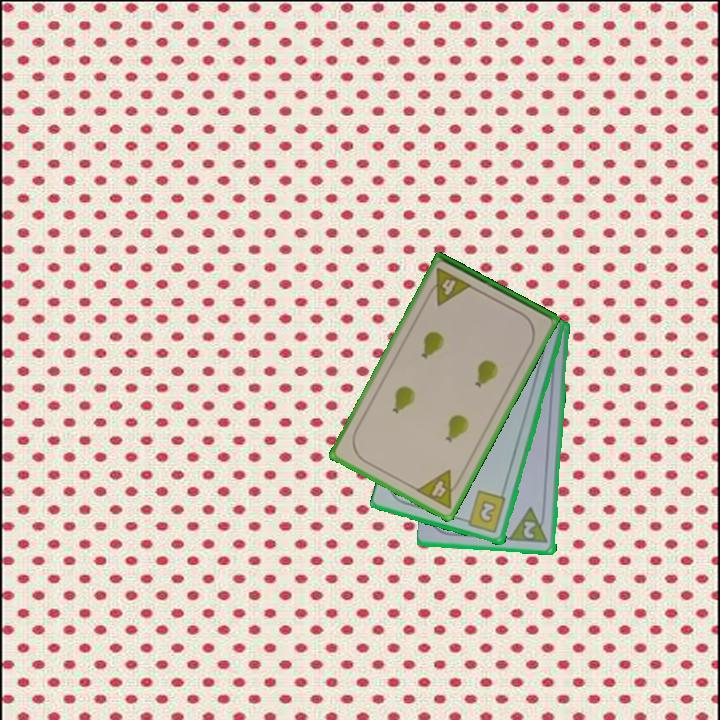2b: (459, 488, 509, 536)
2p: (520, 518, 538, 542)
4p: (412, 466, 465, 512), (423, 264, 475, 309)
